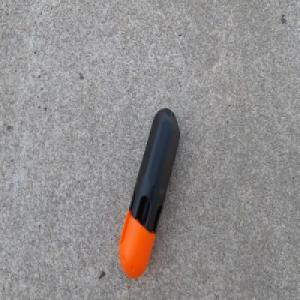PlasticPart: (118, 106, 180, 279)
